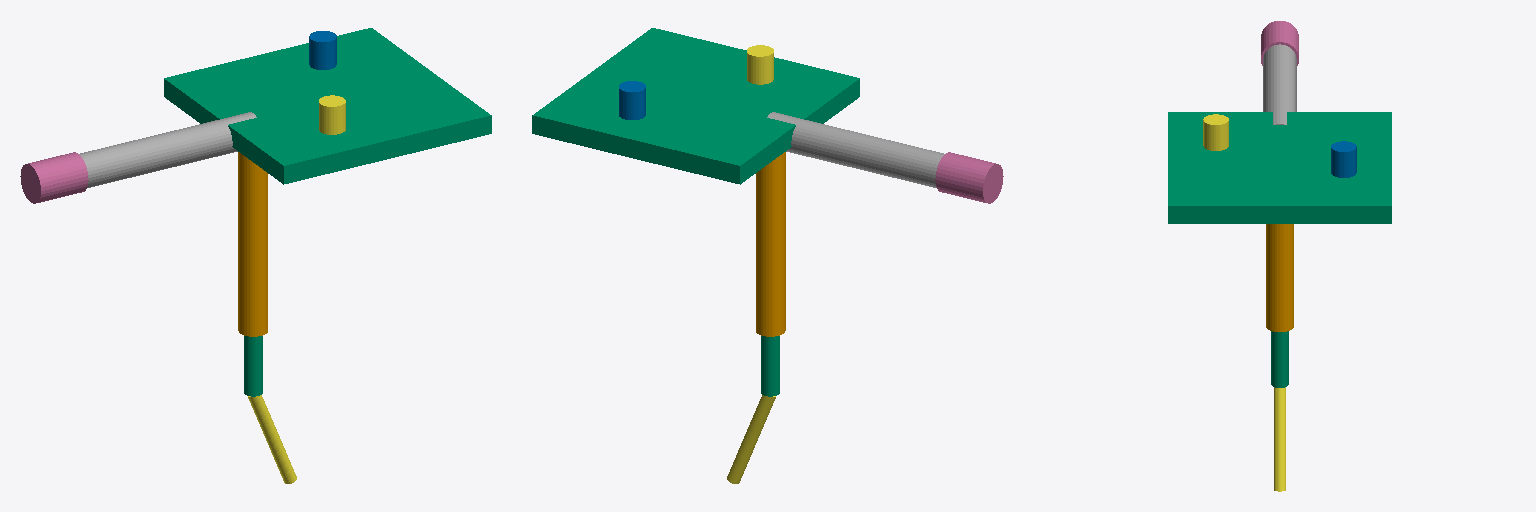
The robot description file, URDF, robot "weldforge_cell":
<?xml version="1.0"?>
<!--
  Positioner cell
  GENERATED by weldforge.kin.urdf: bench, clamps and the mounted
  robot. Regenerate rather than edit.
-->
<robot name="weldforge_cell">

  <link name="world"/>

  <joint name="world_to_cell" type="fixed">
    <parent link="world"/>
    <child link="cell"/>
    <origin xyz="0 0 0" rpy="0 0 0"/>
  </joint>
  <link name="cell"/>

  <!-- Welding bench -->
  <joint name="cell_to_table" type="fixed">
    <parent link="cell"/>
    <child link="table"/>
    <origin xyz="1.0000 0.0000 0.8700" rpy="0 0 0"/>
  </joint>
  <link name="table">
    <inertial>
      <origin xyz="0 0 0" rpy="0 0 0"/>
      <mass value="400.0000"/>
      <inertia ixx="66.666667" ixy="0" ixz="0" iyy="66.666667" iyz="0" izz="66.666667"/>
    </inertial>
    <visual>
      <origin xyz="0 0 0" rpy="0 0 0"/>
      <geometry><box size="0.7000 0.7000 0.0600"/></geometry>
    </visual>
    <collision>
      <origin xyz="0 0 0" rpy="0 0 0"/>
      <geometry><box size="0.7000 0.7000 0.0600"/></geometry>
    </collision>
  </link>

  <!-- clamp faceplate clamp 1 -->
  <joint name="cell_to_clamp_p1" type="fixed">
    <parent link="cell"/>
    <child link="clamp_p1"/>
    <origin xyz="0.900000000 -0.200000000 0.900000000" rpy="0 0 0"/>
  </joint>
  <link name="clamp_p1">
    <inertial>
      <origin xyz="0 0 0" rpy="0 0 0"/>
      <mass value="5.0000"/>
      <inertia ixx="0.006750" ixy="0" ixz="0" iyy="0.006750" iyz="0" izz="0.006750"/>
    </inertial>
    <visual>
      <origin xyz="0 0 0.0450" rpy="0 0 0"/>
      <geometry><cylinder radius="0.0400" length="0.0900"/></geometry>
    </visual>
    <collision>
      <origin xyz="0 0 0.0450" rpy="0 0 0"/>
      <geometry><cylinder radius="0.0400" length="0.0900"/></geometry>
    </collision>
  </link>

  <!-- clamp faceplate clamp 2 -->
  <joint name="cell_to_clamp_p2" type="fixed">
    <parent link="cell"/>
    <child link="clamp_p2"/>
    <origin xyz="1.100000000 0.200000000 0.900000000" rpy="0 0 0"/>
  </joint>
  <link name="clamp_p2">
    <inertial>
      <origin xyz="0 0 0" rpy="0 0 0"/>
      <mass value="5.0000"/>
      <inertia ixx="0.006750" ixy="0" ixz="0" iyy="0.006750" iyz="0" izz="0.006750"/>
    </inertial>
    <visual>
      <origin xyz="0 0 0.0450" rpy="0 0 0"/>
      <geometry><cylinder radius="0.0400" length="0.0900"/></geometry>
    </visual>
    <collision>
      <origin xyz="0 0 0.0450" rpy="0 0 0"/>
      <geometry><cylinder radius="0.0400" length="0.0900"/></geometry>
    </collision>
  </link>

  <!-- Robot, mounted where the cell says -->
  <joint name="cell_to_robot" type="fixed">
    <parent link="cell"/>
    <child link="base_link"/>
    <origin xyz="0.000000000 0.000000000 0.400000000" rpy="0.000000000 -0.000000000 0.000000000"/>
  </joint>


  <link name="base_link">
    <inertial>
      <origin xyz="0 0 0" rpy="0 0 0"/>
      <mass value="50.0000"/>
      <inertia ixx="0.750000" ixy="0" ixz="0" iyy="0.750000" iyz="0" izz="0.750000"/>
    </inertial>
  </link>

  <joint name="joint_1" type="revolute">
    <parent link="base_link"/>
    <child link="link_1"/>
    <origin xyz="0.000000000 -0.000000000 0.453000000" rpy="0.000000000 -0.000000000 0.000000000"/>
    <axis xyz="0 0 1"/>
    <limit lower="-2.967059728" upper="2.967059728" effort="1000" velocity="2.967060"/>
    <dynamics damping="0.5" friction="0.1"/>
  </joint>

  <link name="link_1">
    <inertial>
      <origin xyz="0 0 0" rpy="0 0 0"/>
      <mass value="40.0000"/>
      <inertia ixx="0.170667" ixy="0" ixz="0" iyy="0.170667" iyz="0" izz="0.170667"/>
    </inertial>
    <visual>
      <origin xyz="0.080000000 0.000000000 0.000000000" rpy="-0.000000000 1.570796327 0.000000000"/>
      <geometry><cylinder radius="0.0600" length="0.1600"/></geometry>
    </visual>
    <collision>
      <origin xyz="0.080000000 0.000000000 0.000000000" rpy="-0.000000000 1.570796327 0.000000000"/>
      <geometry><cylinder radius="0.0600" length="0.1600"/></geometry>
    </collision>
  </link>

  <joint name="joint_2" type="revolute">
    <parent link="link_1"/>
    <child link="link_2"/>
    <origin xyz="0.160000000 0.000000000 0.000000000" rpy="-1.570796327 0.000000000 0.000000000"/>
    <axis xyz="0 0 1"/>
    <limit lower="-1.570796327" upper="2.617993878" effort="1000" velocity="2.967060"/>
    <dynamics damping="0.5" friction="0.1"/>
  </joint>

  <link name="link_2">
    <inertial>
      <origin xyz="0 0 0" rpy="0 0 0"/>
      <mass value="35.0000"/>
      <inertia ixx="2.030583" ixy="0" ixz="0" iyy="2.030583" iyz="0" izz="2.030583"/>
    </inertial>
    <visual>
      <origin xyz="0.295000000 -0.000000000 0.000000000" rpy="-0.000000000 1.570796327 0.000000000"/>
      <geometry><cylinder radius="0.0520" length="0.5900"/></geometry>
    </visual>
    <collision>
      <origin xyz="0.295000000 -0.000000000 0.000000000" rpy="-0.000000000 1.570796327 0.000000000"/>
      <geometry><cylinder radius="0.0520" length="0.5900"/></geometry>
    </collision>
  </link>

  <joint name="joint_3" type="revolute">
    <parent link="link_2"/>
    <child link="link_3"/>
    <origin xyz="0.590000000 -0.000000000 0.000000000" rpy="0.000000000 -0.000000000 0.000000000"/>
    <axis xyz="0 0 1"/>
    <limit lower="-1.745329252" upper="1.396263402" effort="1000" velocity="2.967060"/>
    <dynamics damping="0.5" friction="0.1"/>
  </joint>

  <link name="link_3">
    <inertial>
      <origin xyz="0 0 0" rpy="0 0 0"/>
      <mass value="30.0000"/>
      <inertia ixx="2.093045" ixy="0" ixz="0" iyy="2.093045" iyz="0" izz="2.093045"/>
    </inertial>
    <visual>
      <origin xyz="0.000000000 0.323500000 0.000000000" rpy="-1.570796327 -0.000000000 0.000000000"/>
      <geometry><cylinder radius="0.0440" length="0.6470"/></geometry>
    </visual>
    <collision>
      <origin xyz="0.000000000 0.323500000 0.000000000" rpy="-1.570796327 -0.000000000 0.000000000"/>
      <geometry><cylinder radius="0.0440" length="0.6470"/></geometry>
    </collision>
  </link>

  <joint name="joint_4" type="revolute">
    <parent link="link_3"/>
    <child link="link_4"/>
    <origin xyz="0.000000000 0.647000000 0.000000000" rpy="-1.570796327 0.000000000 0.000000000"/>
    <axis xyz="0 0 1"/>
    <limit lower="-2.705260341" upper="2.705260341" effort="1000" velocity="5.585054"/>
    <dynamics damping="0.5" friction="0.1"/>
  </joint>

  <link name="link_4">
    <inertial>
      <origin xyz="0 0 0" rpy="0 0 0"/>
      <mass value="25.0000"/>
      <inertia ixx="0.010417" ixy="0" ixz="0" iyy="0.010417" iyz="0" izz="0.010417"/>
    </inertial>
  </link>

  <joint name="joint_5" type="revolute">
    <parent link="link_4"/>
    <child link="link_5"/>
    <origin xyz="0.000000000 -0.000000000 0.000000000" rpy="1.570796327 -0.000000000 0.000000000"/>
    <axis xyz="0 0 1"/>
    <limit lower="-2.356194490" upper="2.356194490" effort="1000" velocity="6.632251"/>
    <dynamics damping="0.5" friction="0.1"/>
  </joint>

  <link name="link_5">
    <inertial>
      <origin xyz="0 0 0" rpy="0 0 0"/>
      <mass value="20.0000"/>
      <inertia ixx="0.133333" ixy="0" ixz="0" iyy="0.133333" iyz="0" izz="0.133333"/>
    </inertial>
    <visual>
      <origin xyz="0.000000000 0.100000000 0.000000000" rpy="-1.570796327 -0.000000000 0.000000000"/>
      <geometry><cylinder radius="0.0280" length="0.2000"/></geometry>
    </visual>
    <collision>
      <origin xyz="0.000000000 0.100000000 0.000000000" rpy="-1.570796327 -0.000000000 0.000000000"/>
      <geometry><cylinder radius="0.0280" length="0.2000"/></geometry>
    </collision>
  </link>

  <joint name="joint_6" type="revolute">
    <parent link="link_5"/>
    <child link="link_6"/>
    <origin xyz="0.000000000 0.200000000 0.000000000" rpy="-1.570796327 0.000000000 0.000000000"/>
    <axis xyz="0 0 1"/>
    <limit lower="-3.490658504" upper="3.490658504" effort="1000" velocity="8.028515"/>
    <dynamics damping="0.5" friction="0.1"/>
  </joint>

  <link name="link_6">
    <inertial>
      <origin xyz="0 0 0" rpy="0 0 0"/>
      <mass value="15.0000"/>
      <inertia ixx="0.280563" ixy="0" ixz="0" iyy="0.280563" iyz="0" izz="0.280563"/>
    </inertial>
    <visual>
      <origin xyz="0.062746604 0.000000000 0.155303296" rpy="0.000000000 0.383972435 0.000000000"/>
      <geometry><cylinder radius="0.0200" length="0.3350"/></geometry>
    </visual>
    <collision>
      <origin xyz="0.062746604 0.000000000 0.155303296" rpy="0.000000000 0.383972435 0.000000000"/>
      <geometry><cylinder radius="0.0200" length="0.3350"/></geometry>
    </collision>
  </link>

  <joint name="joint_tool" type="fixed">
    <parent link="link_6"/>
    <child link="torch_tip"/>
    <origin xyz="0.125493209 0.000000000 0.310606591" rpy="0.000000000 0.383972435 0.000000000"/>
  </joint>

  <link name="torch_tip">
    <inertial>
      <origin xyz="0 0 0" rpy="0 0 0"/>
      <mass value="2.0000"/>
      <inertia ixx="0.000833" ixy="0" ixz="0" iyy="0.000833" iyz="0" izz="0.000833"/>
    </inertial>
  </link>

</robot>

--- Render facts (derived) ---
3 views of the same robot in one strip: view 1: azimuth 30°, elevation 25°; view 2: azimuth 150°, elevation 25°; view 3: azimuth 270°, elevation 25° (orthographic).
Model weldforge_cell with 13 links and 12 joints (6 revolute, 6 fixed), rooted at world, posed all joints at 0.
Links seen in each view (by area): view 1: table, link_2, link_3, link_1, link_6, link_5, clamp_p2, clamp_p1; view 2: table, link_2, link_3, link_1, link_6, link_5, clamp_p1, clamp_p2; view 3: table, link_3, link_2, link_6, link_5, link_1, clamp_p1, clamp_p2.
Link boxes in pixels (bbox=[...]): table: bbox=[164, 28, 491, 184]; link_2: bbox=[79, 112, 256, 187]; link_3: bbox=[238, 152, 267, 336]; link_1: bbox=[20, 152, 88, 203]; link_6: bbox=[248, 395, 296, 483]; link_5: bbox=[244, 336, 262, 396]; clamp_p2: bbox=[309, 31, 336, 69]; clamp_p1: bbox=[319, 95, 345, 134]; table: bbox=[532, 28, 859, 184]; link_2: bbox=[767, 112, 944, 187]; link_3: bbox=[756, 152, 785, 336]; link_1: bbox=[935, 152, 1003, 203]; link_6: bbox=[727, 395, 775, 483]; link_5: bbox=[761, 336, 779, 396]; clamp_p1: bbox=[747, 45, 773, 84]; clamp_p2: bbox=[619, 81, 645, 119]; table: bbox=[1168, 112, 1391, 223]; link_3: bbox=[1266, 224, 1293, 331]; link_2: bbox=[1263, 44, 1296, 124]; link_6: bbox=[1274, 387, 1285, 491]; link_5: bbox=[1271, 331, 1288, 387]; link_1: bbox=[1261, 21, 1298, 65]; clamp_p1: bbox=[1203, 114, 1228, 150]; clamp_p2: bbox=[1331, 141, 1356, 177].
Size in the robot's own frame: 1.35 by 0.7 by 1.3 metres.
Geometry: primitives only (box / cylinder / sphere), no mesh files.
